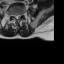CCS_stenosis: (16, 13, 18, 20)
LFS_stenosis: (20, 12, 23, 18)
LLS_normal: (18, 13, 20, 19)
RFS_stenosis: (12, 12, 14, 18)
RLS_normal: (14, 13, 16, 19)
